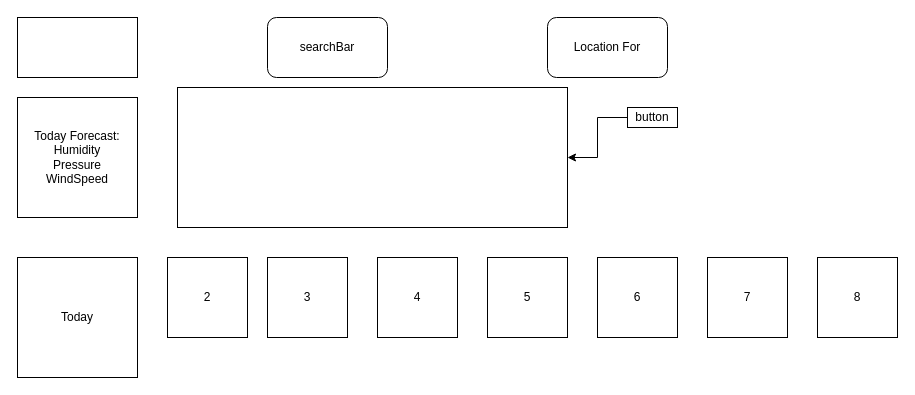
Image size: 915x395. Some labels were removed from this diagram. The centre of each missing label's shape, as x and y in pixels:
"Date" belongs at point 77,47.
"OnClickButton show table for detail forecasr" belongs at point 372,157.
